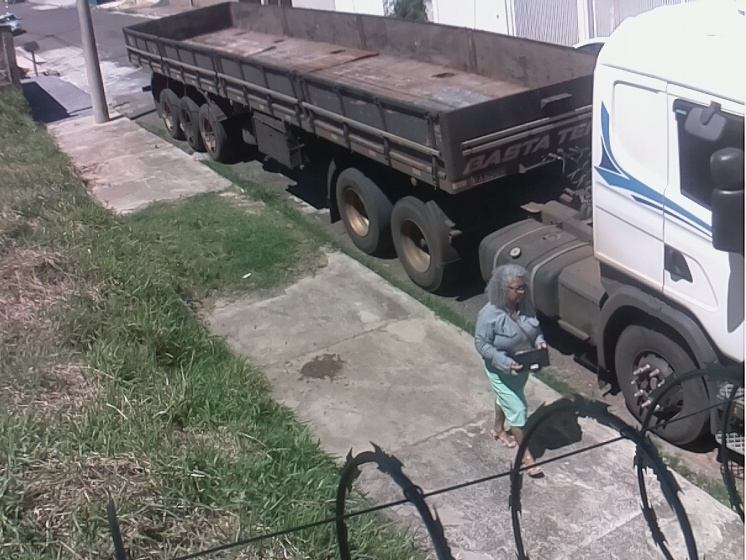person: (473, 263, 551, 478)
